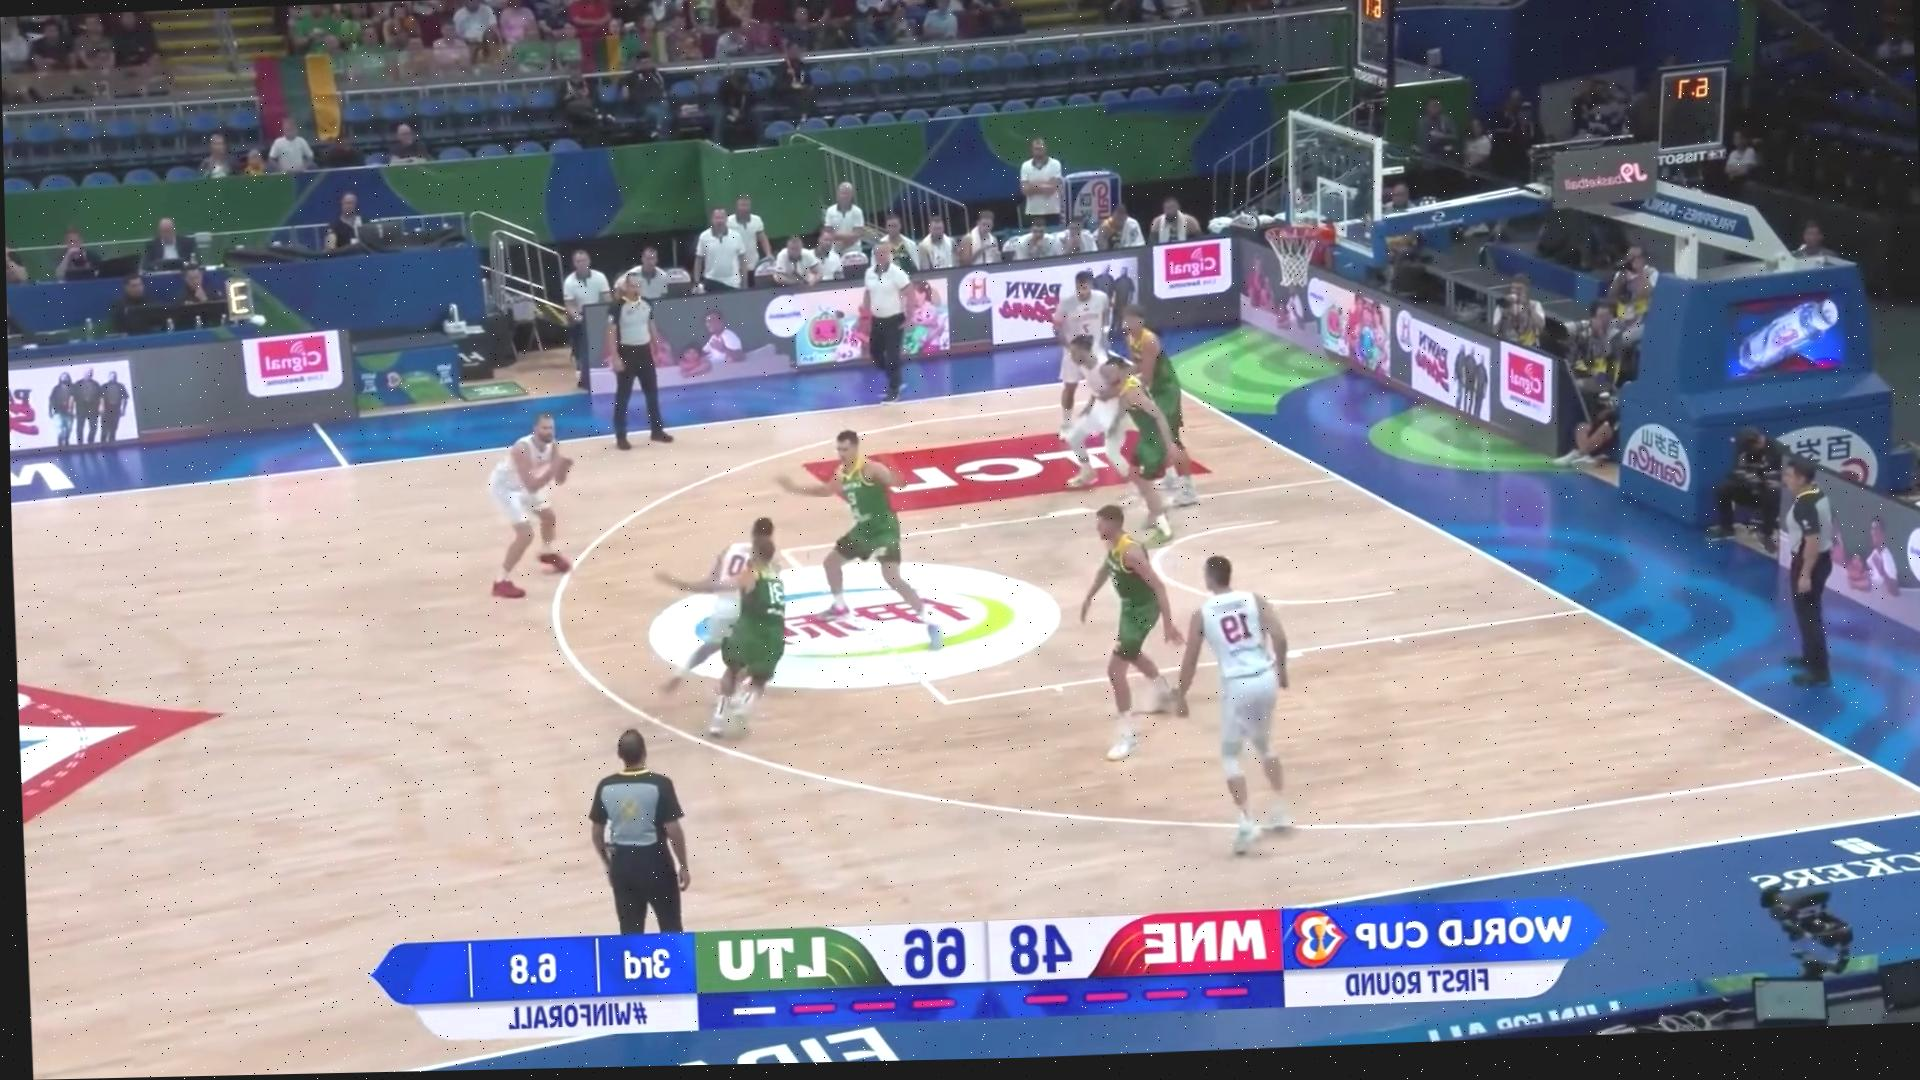foul: (638, 497, 841, 733)
